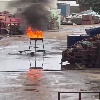fire: (25, 26, 43, 38)
